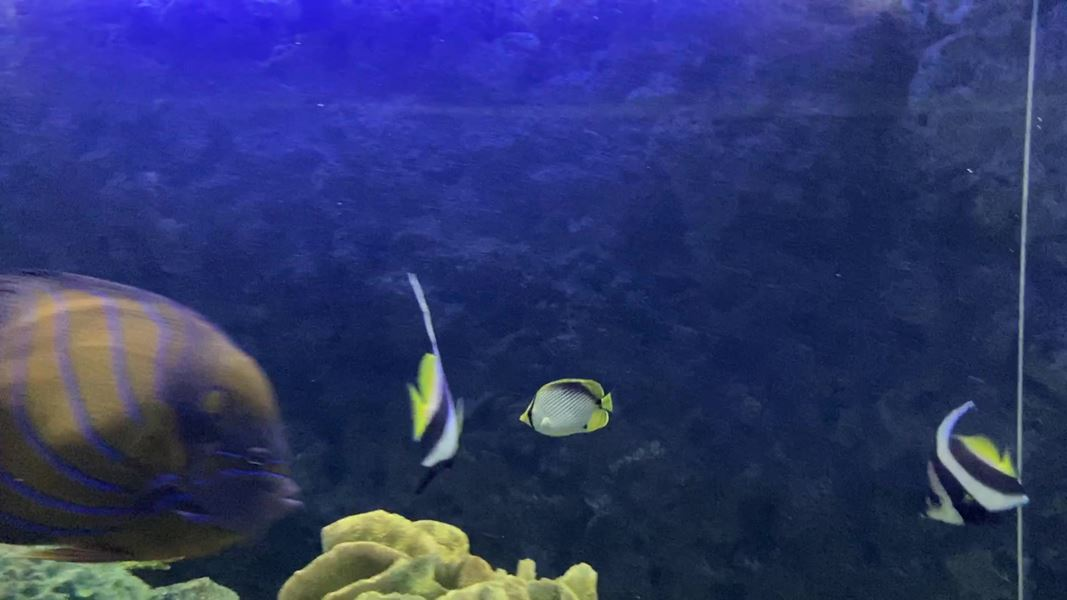Black-backed butterflyfish: (513, 374, 629, 447)
